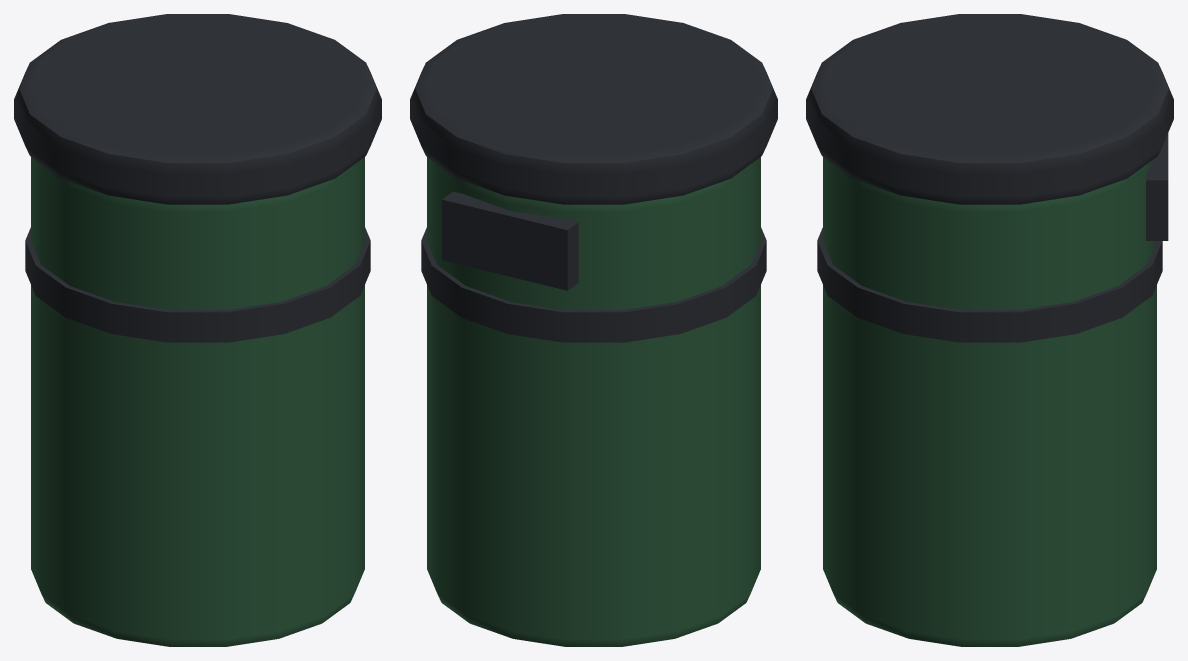
The model's file is bin.glb.
The picture shows the model from 3 angles, left to right: view 1: azimuth 30°, elevation 25°; view 2: azimuth 150°, elevation 25°; view 3: azimuth 270°, elevation 25°; orthographic projection.
Parts seen in each view (by area): view 1: part-park-green, part-iron; view 2: part-park-green, part-iron; view 3: part-park-green, part-iron.
Part boxes in pixels (box(x1,y1,x2,y2)): part-park-green: box(31, 157, 364, 646); part-iron: box(14, 14, 381, 342); part-park-green: box(427, 157, 760, 646); part-iron: box(410, 14, 777, 342); part-park-green: box(823, 157, 1156, 646); part-iron: box(806, 14, 1173, 342).
Bounding box in the file's own units: 6.5 × 9.9 × 6.6.
